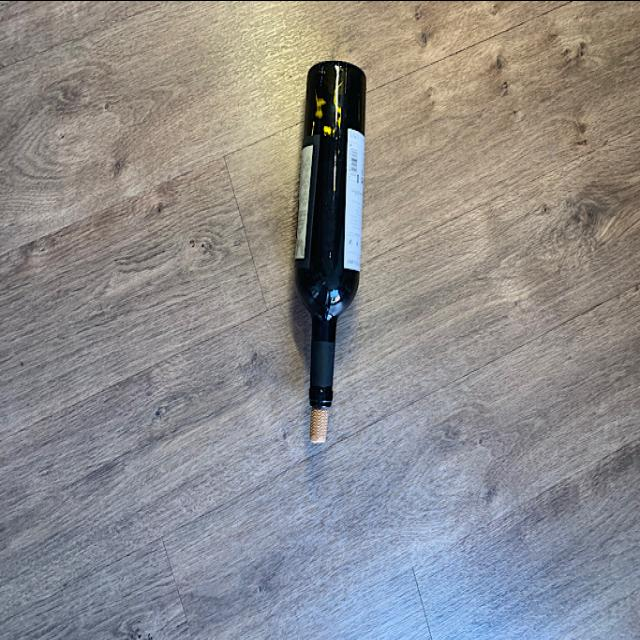Glass Bottle: (294, 52, 381, 410)
